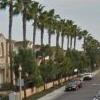Palm tree: (3, 0, 64, 65)
